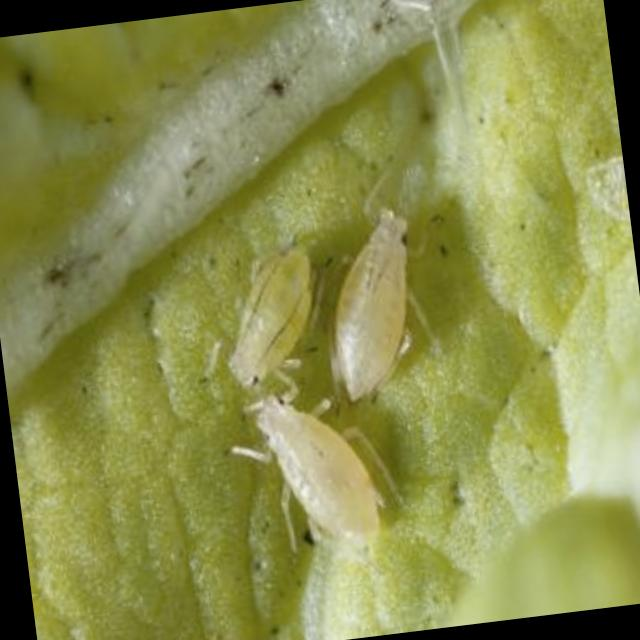Green peach aphid: (281, 138, 478, 408), (222, 368, 416, 586), (180, 220, 363, 420)
